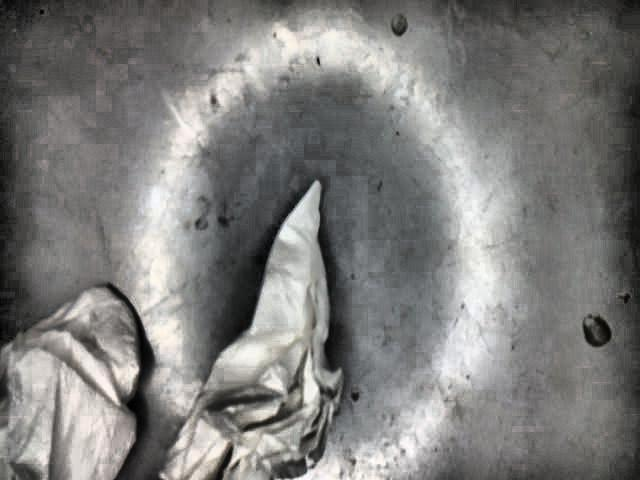Paper: (154, 182, 349, 480), (0, 285, 145, 479)
